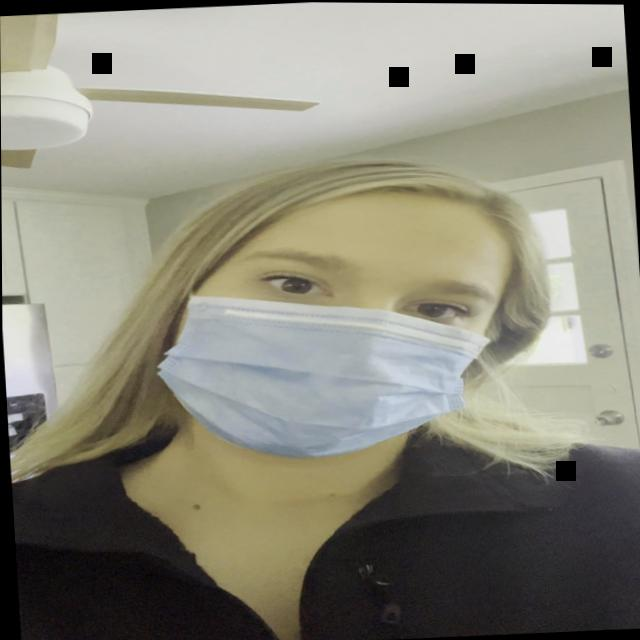Mask: (150, 181, 525, 466)
